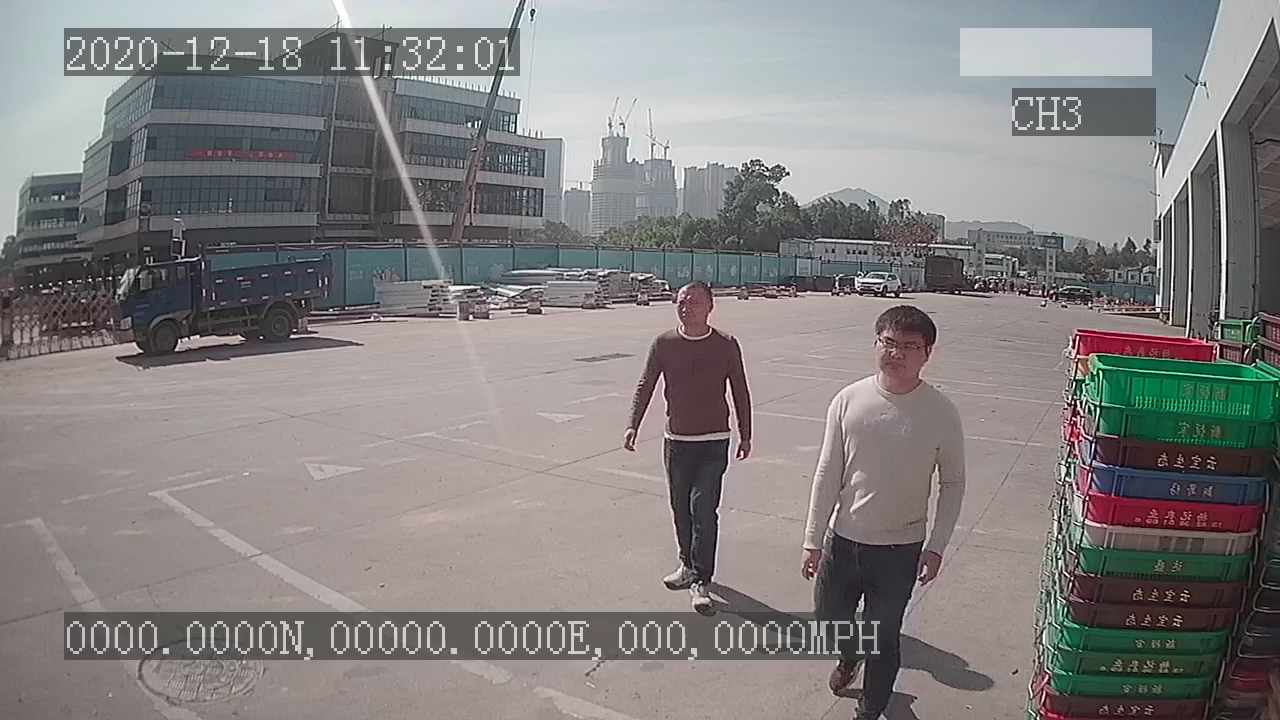person: (624, 278, 752, 611)
